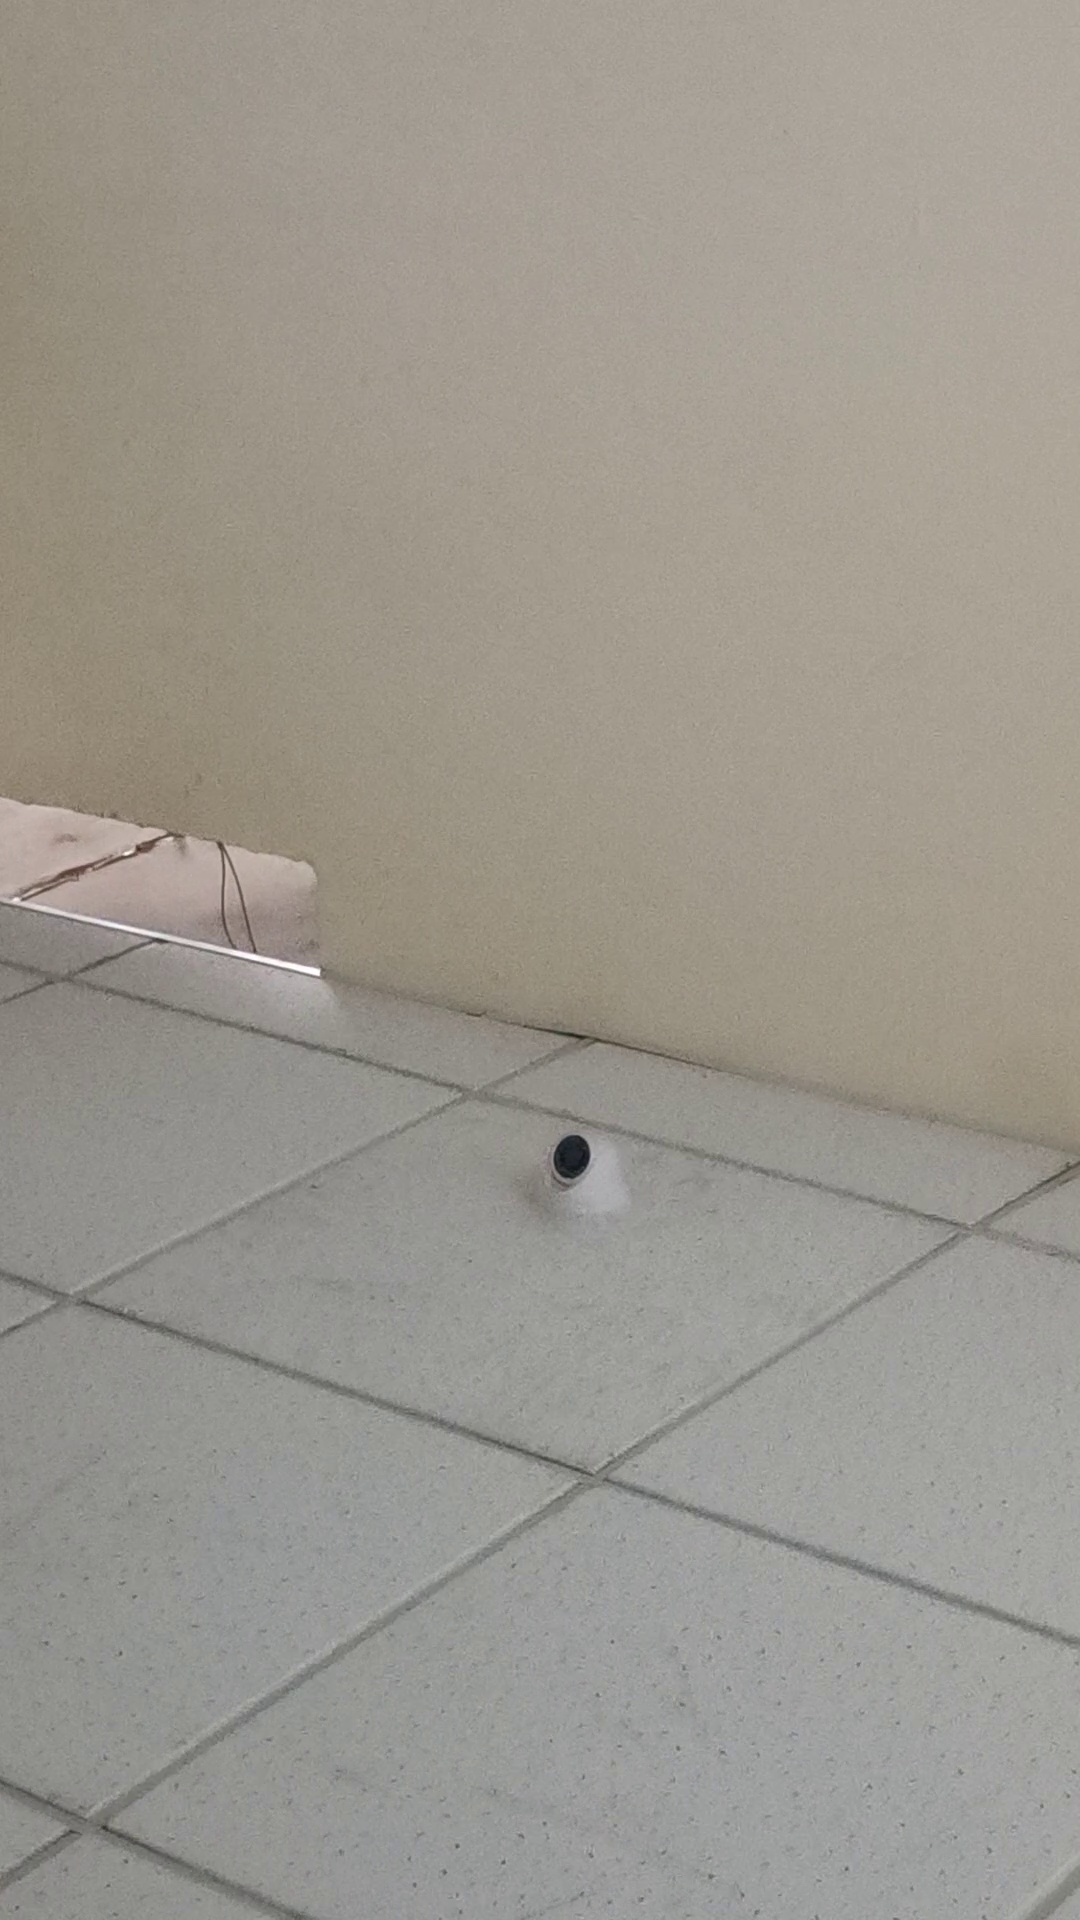cctv: (517, 1120, 644, 1217)
